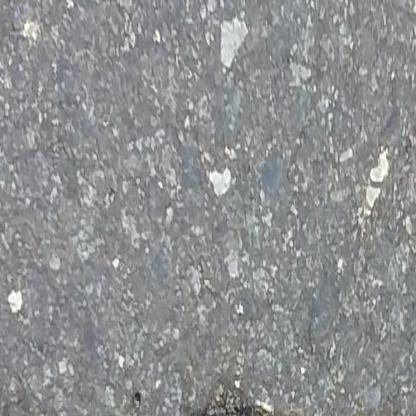Cracks: (99, 379, 306, 416), (338, 397, 416, 416)
